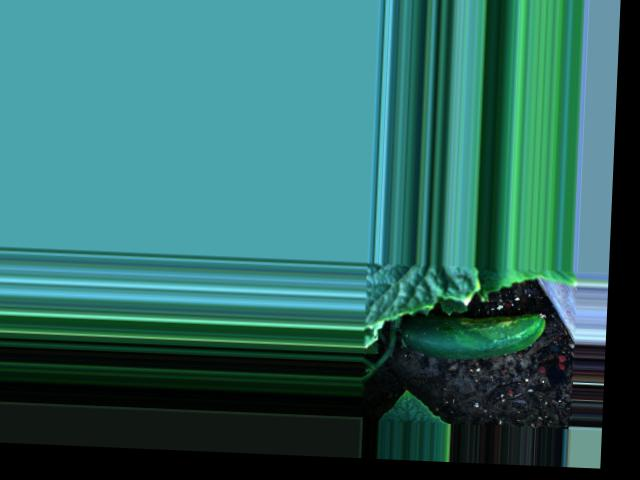cucumber: (401, 306, 546, 362)
